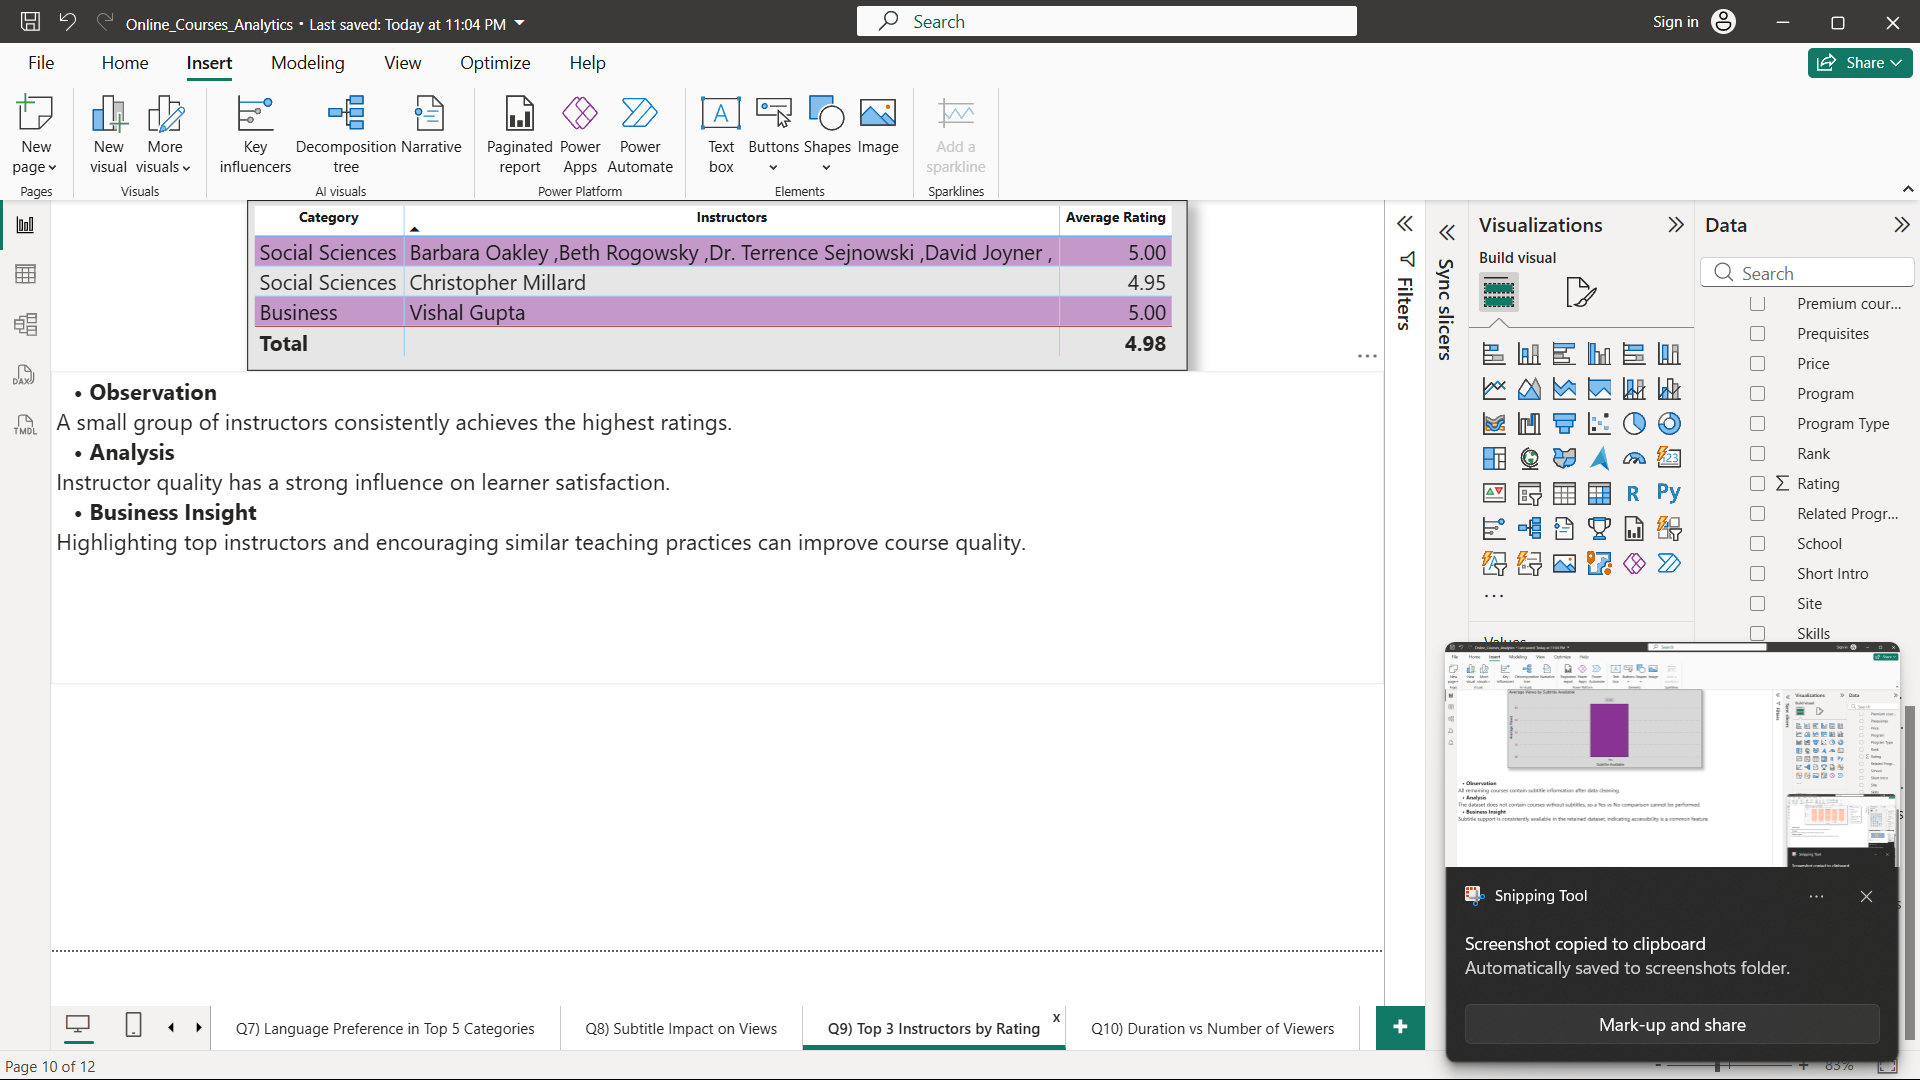

The dashboard page shown, as its layout file describes it:
{"tool":"powerbi","page":{"name":"Q9) Top 3 Instructors by Rating","canvas":[1280,720],"ordinal":9},"visuals":[{"type":"tableEx","fields":{"Values":["Online_Courses.Category","Online_Courses.Instructors","Online_Courses.Average Rating"]},"box":[188.6,0,902.9,164.3],"z":0},{"type":"textbox","box":[0,164.3,1280,300],"z":1000}]}

Visuals, with their boxes on the page's 1280x720 design canvas (x1, y1, x2, y2). These are canvas units, not pixel positions in the 1920x1080 screenshot, which may show the page scaled, cropped or inside an application window:
tableEx - Online_Courses.Category x Online_Courses.Instructors: (189,0,1092,164)
textbox: (0,164,1280,464)
